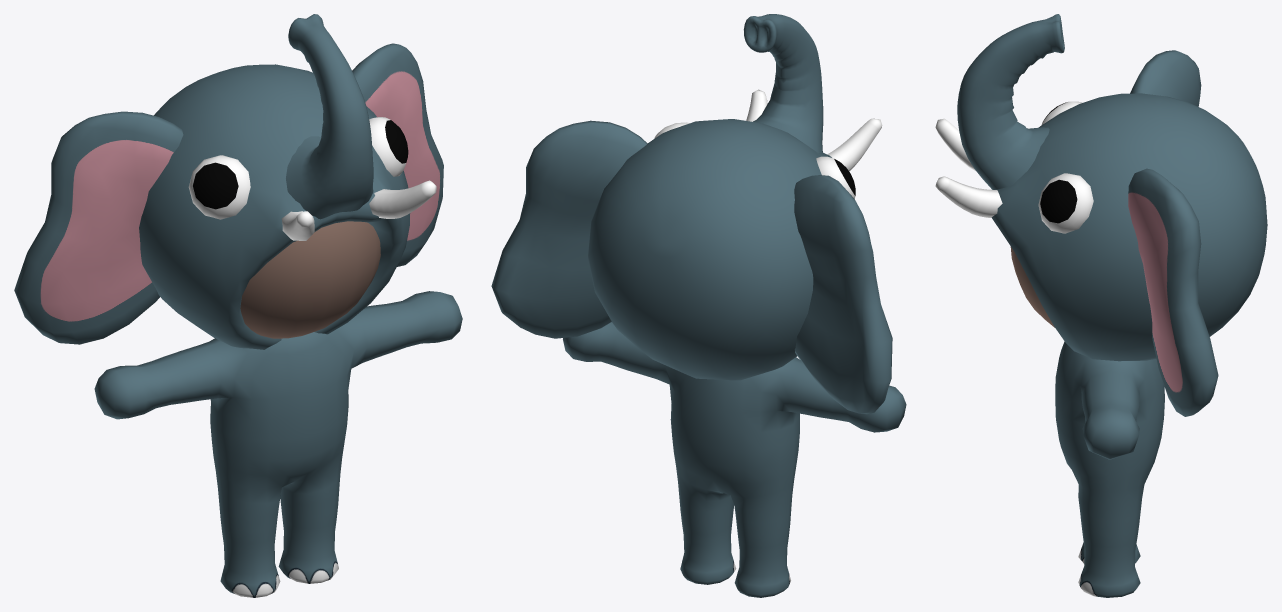
The model's file is Voi_cloth.fbx.
3 renders of one model, left to right at view 1: azimuth 30°, elevation 25°; view 2: azimuth 150°, elevation 25°; view 3: azimuth 270°, elevation 25°, orthographic. The views are drawn at different scales.
Parts seen in each view (by area): view 1: Cloth, Body; view 2: Cloth; view 3: Cloth, Body.
Part boxes in pixels (x1=…): Cloth: x1=14, y1=14, x2=462, y2=597; Body: x1=240, y1=221, x2=380, y2=338; Cloth: x1=491, y1=14, x2=906, y2=597; Cloth: x1=935, y1=14, x2=1267, y2=597; Body: x1=1010, y1=246, x2=1054, y2=327.
Size of the model in its own units: 267 by 351 by 190.
